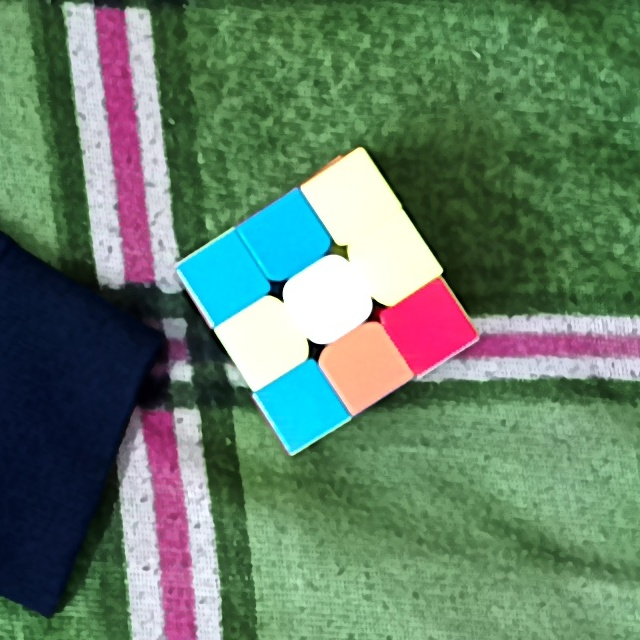tile: (303, 275, 352, 325), (240, 319, 284, 374), (372, 241, 418, 292), (406, 305, 453, 354), (200, 255, 248, 302), (330, 177, 374, 227), (279, 384, 324, 431), (339, 344, 389, 386), (261, 219, 303, 263)
